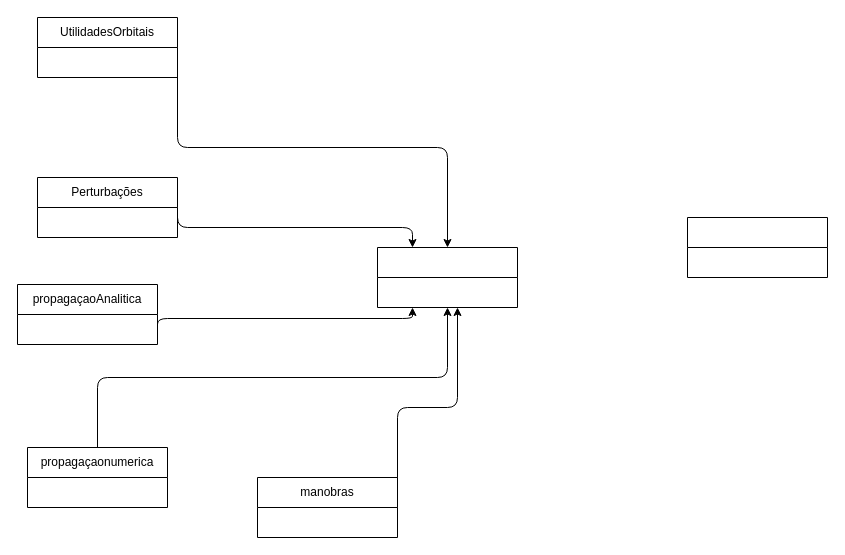
This 845x555 diagram has some shape labels left out. The shapes that lost their labels are listed below. From the top down, each one's box as (x1, y1, x2, y2) in pixels, then its label:
(686, 216, 828, 278): PlotarOrbita
(376, 246, 518, 308): ModeloOrbita
